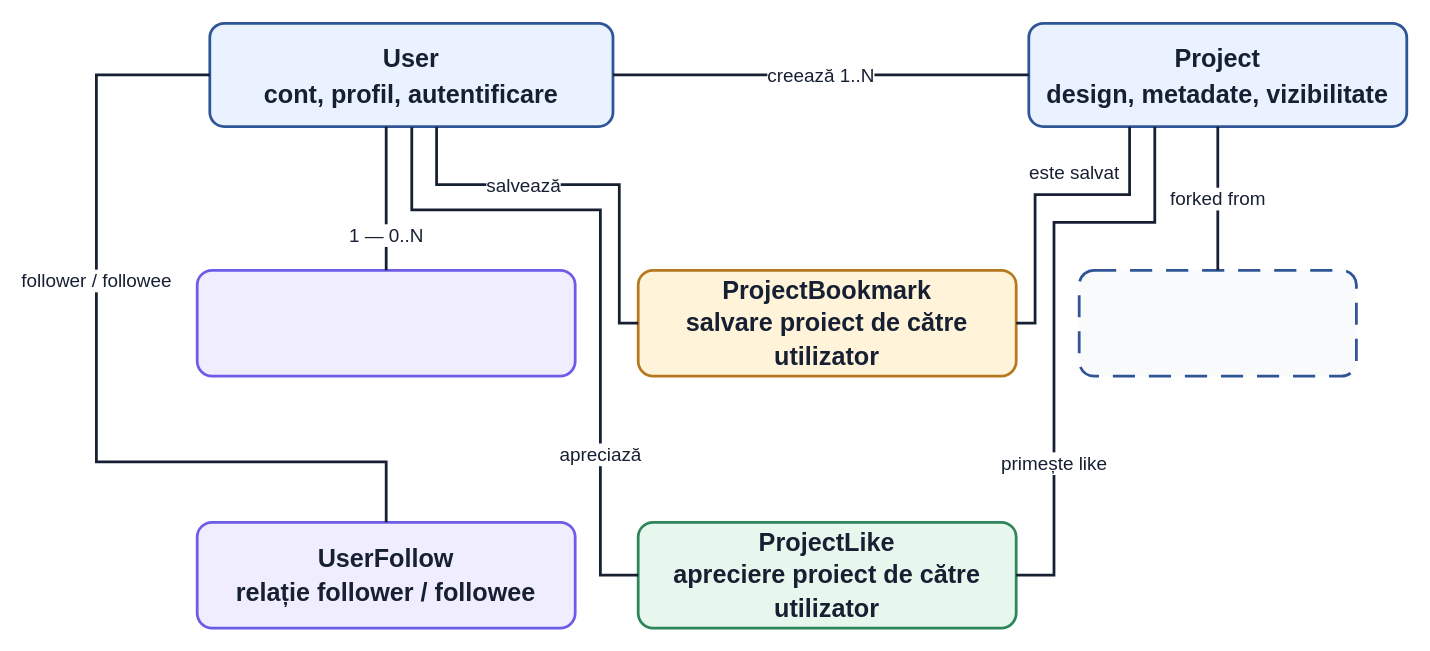
The diagram is 1430 pixels wide and 651 high, and some of its shapes have lost their labels. Here are the shapes that lost their labels. From the top down, the centre of each, then its label:
point (385, 322): LinkedAccount provider OAuth asociat utilizatorului
point (1217, 322): Project sursă pentru fork
